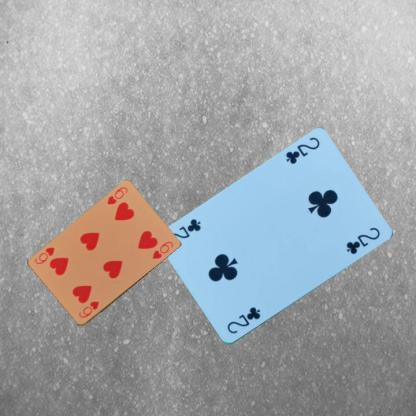2c: (224, 304, 262, 336), (283, 134, 321, 166)
6h: (104, 184, 129, 207), (76, 298, 101, 320)
